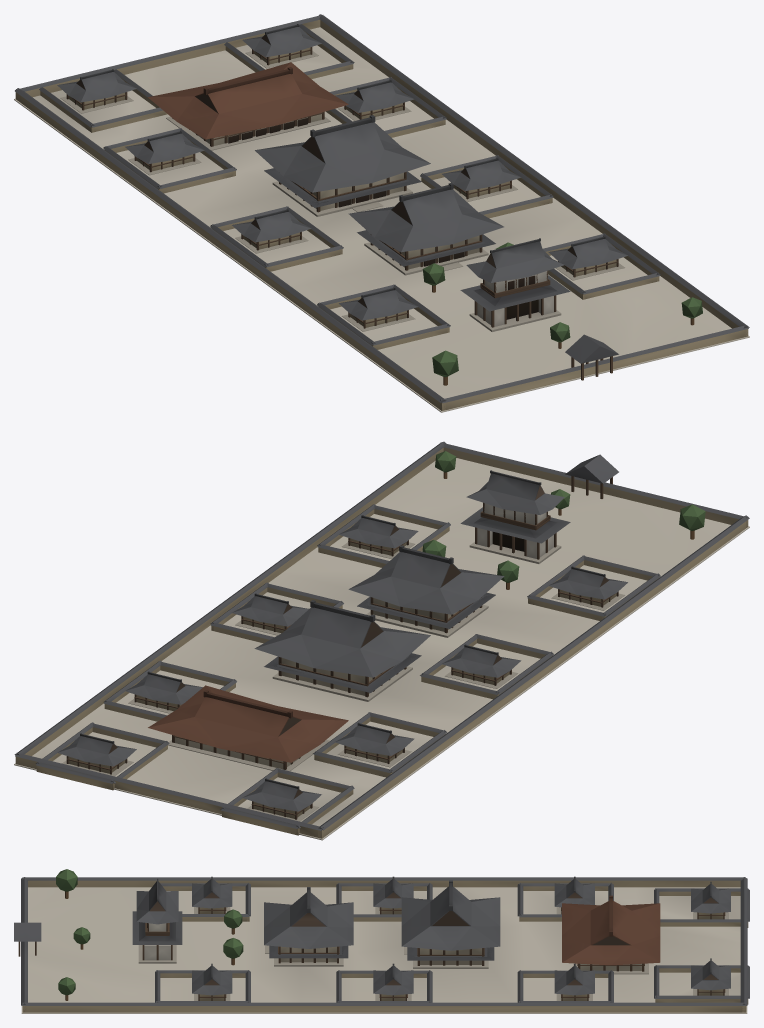
The model's file is kenninji.glb.
3 renders of one model, top to bottom at view 1: azimuth 30°, elevation 25°; view 2: azimuth 150°, elevation 25°; view 3: azimuth 270°, elevation 25°, orthographic. The views are drawn at different scales.
Visible parts, largest first — view 1: p0_grounds, p2_roofs, p1_halls; view 2: p0_grounds, p2_roofs, p1_halls; view 3: p0_grounds, p2_roofs, p1_halls.
Boxes of the visible parts, left/top/right/bottom form: p0_grounds: left=14, top=14, right=749, bottom=412; p2_roofs: left=57, top=24, right=702, bottom=385; p1_halls: left=60, top=47, right=624, bottom=380; p0_grounds: left=14, top=441, right=749, bottom=840; p2_roofs: left=57, top=451, right=705, bottom=811; p1_halls: left=62, top=454, right=624, bottom=821; p0_grounds: left=21, top=877, right=749, bottom=1013; p2_roofs: left=56, top=869, right=730, bottom=1000; p1_halls: left=14, top=907, right=728, bottom=1000.
Size of the model in its own units: 100 by 22.39 by 243.
